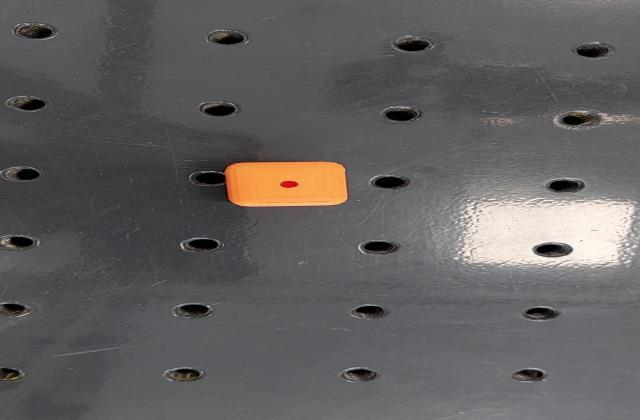cube: (215, 160, 352, 208)
